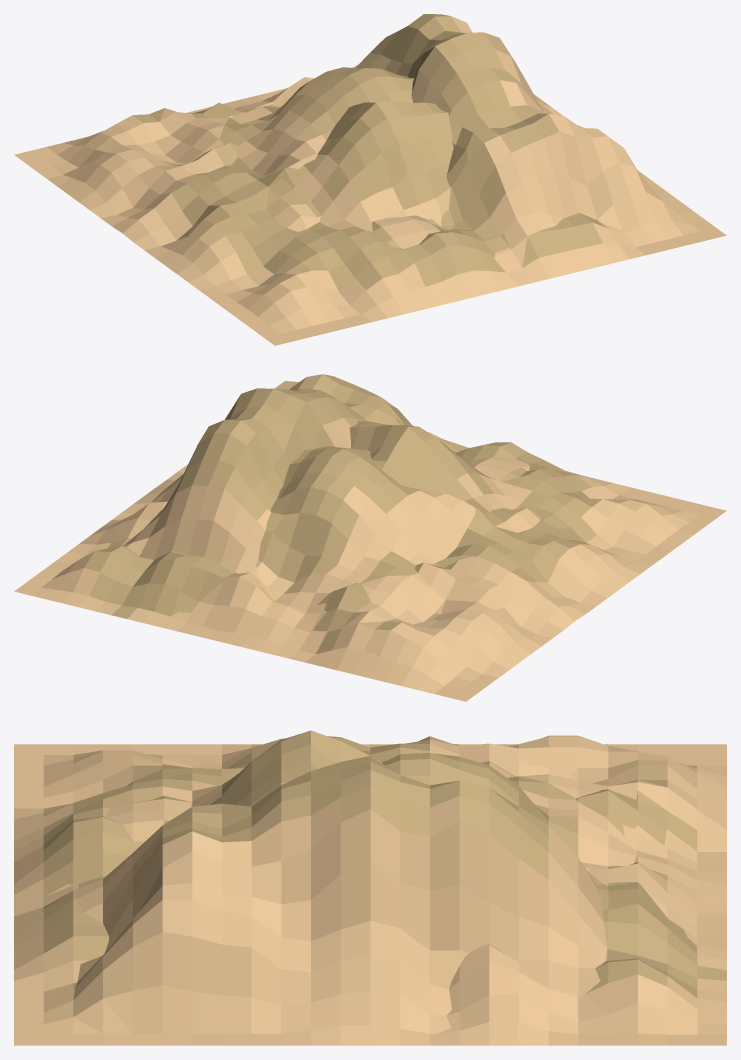
The model's file is Landscapes.fbx.
3 renders of one model, top to bottom at view 1: azimuth 30°, elevation 25°; view 2: azimuth 150°, elevation 25°; view 3: azimuth 270°, elevation 25°, orthographic. The views are drawn at different scales.
Parts seen in each view (by area): view 1: Large_Land.002, Large_Land.006, Large_Land.003, Large_Land.004, Large_Land.001; view 2: Large_Land.002, Large_Land.006, Large_Land.003, Large_Land.004, Large_Land.001; view 3: Large_Land.006, Large_Land.002, Large_Land.003, Large_Land.004.
Part boxes in pixels (x1,y1,x2,y2): Large_Land.002: (14,65,726,345); Large_Land.006: (191,14,662,272); Large_Land.003: (219,67,563,229); Large_Land.004: (138,104,682,222); Large_Land.001: (266,178,320,231); Large_Land.002: (14,421,726,701); Large_Land.006: (79,374,529,658); Large_Land.003: (68,446,488,601); Large_Land.004: (277,544,550,628); Large_Land.001: (486,508,540,532); Large_Land.006: (43,756,726,1045); Large_Land.002: (14,730,726,1045); Large_Land.003: (373,752,631,1045); Large_Land.004: (73,747,667,1045).
Size of the model in its own units: 16000 by 5386 by 16000.
